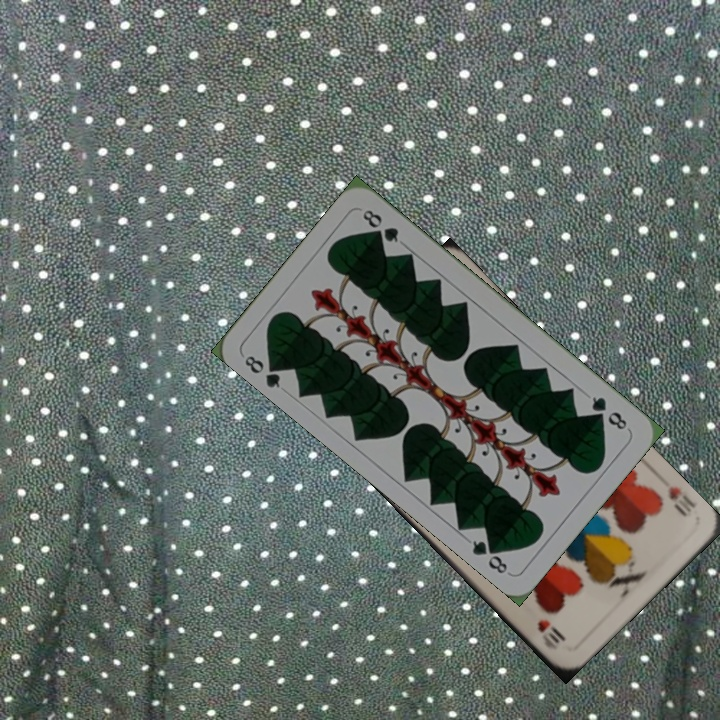G8: (240, 351, 286, 391), (587, 392, 630, 433)
H10: (664, 482, 698, 520)
